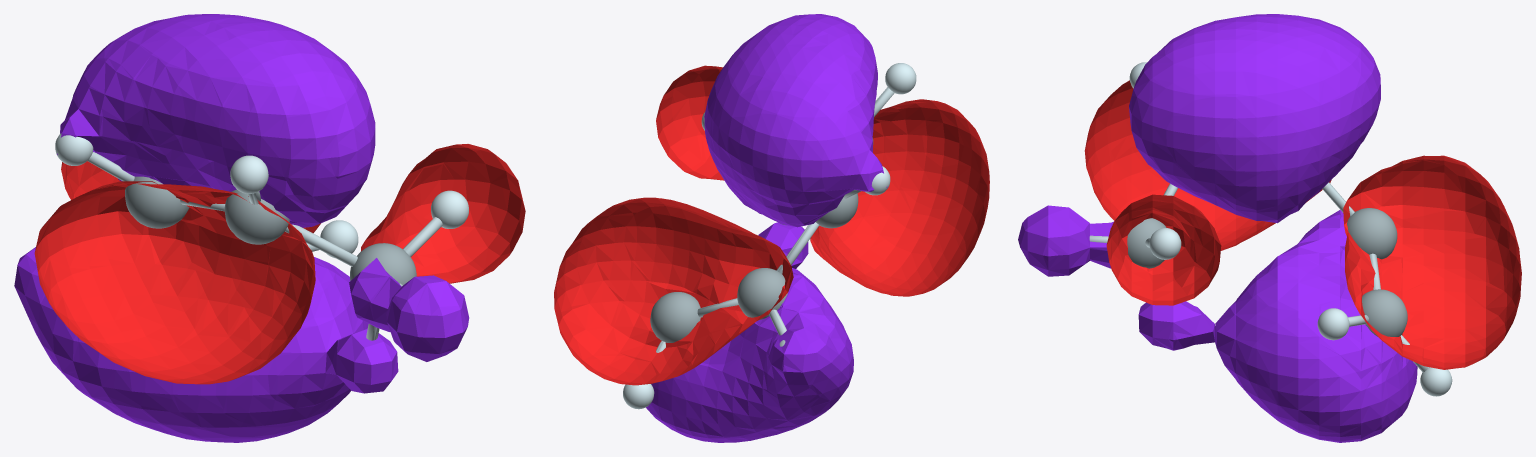
3 views of the same model, side by side, from view 1: azimuth 30°, elevation 25°; view 2: azimuth 150°, elevation 25°; view 3: azimuth 270°, elevation 25° (orthographic). The views are drawn at different scales.
Parts seen in each view (by area): view 1: Renderer Node; view 2: Renderer Node; view 3: Renderer Node.
Part boxes in pixels (bbox=[...]): Renderer Node: bbox=[14, 14, 525, 442]; Renderer Node: bbox=[554, 14, 989, 442]; Renderer Node: bbox=[1018, 14, 1521, 442].
Size of the model in its own units: 4.97 by 5.26 by 6.29.
